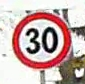limite 30: (10, 9, 71, 69)
